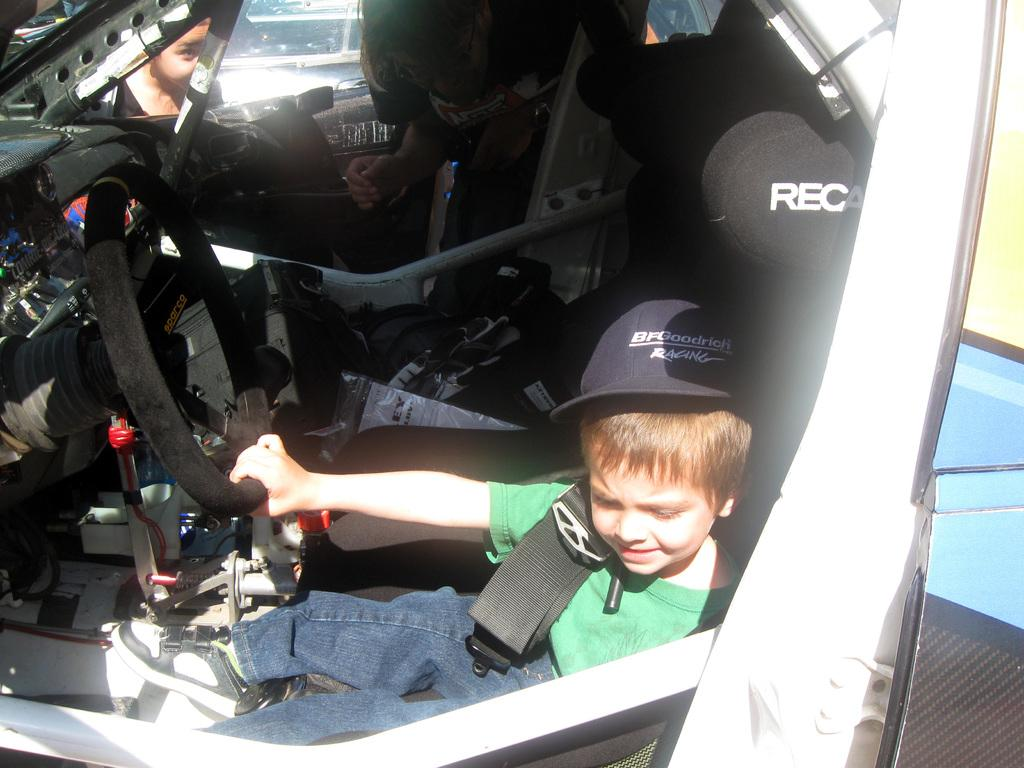Hat: (550, 296, 746, 431)
